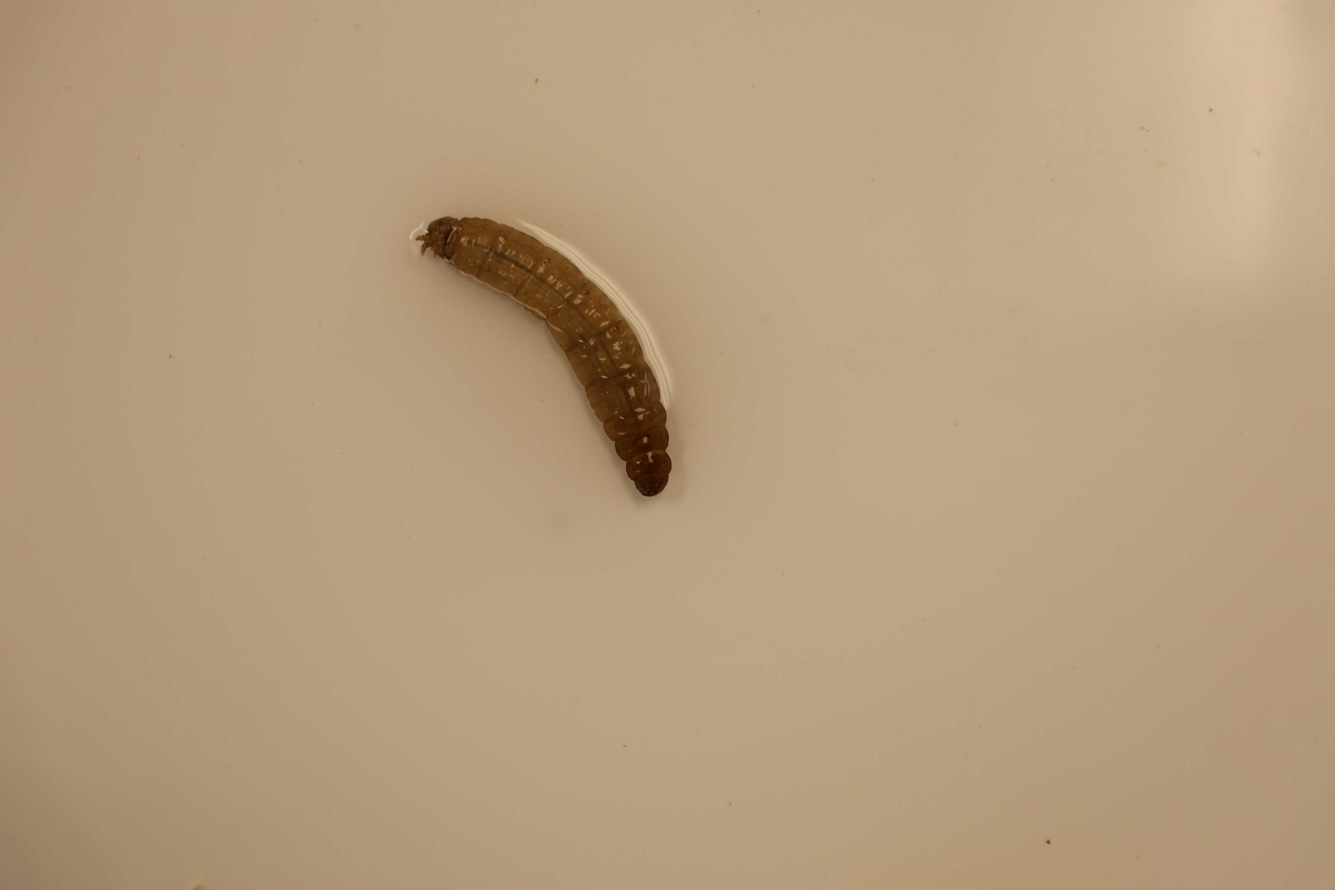Other: (414, 211, 675, 504)
